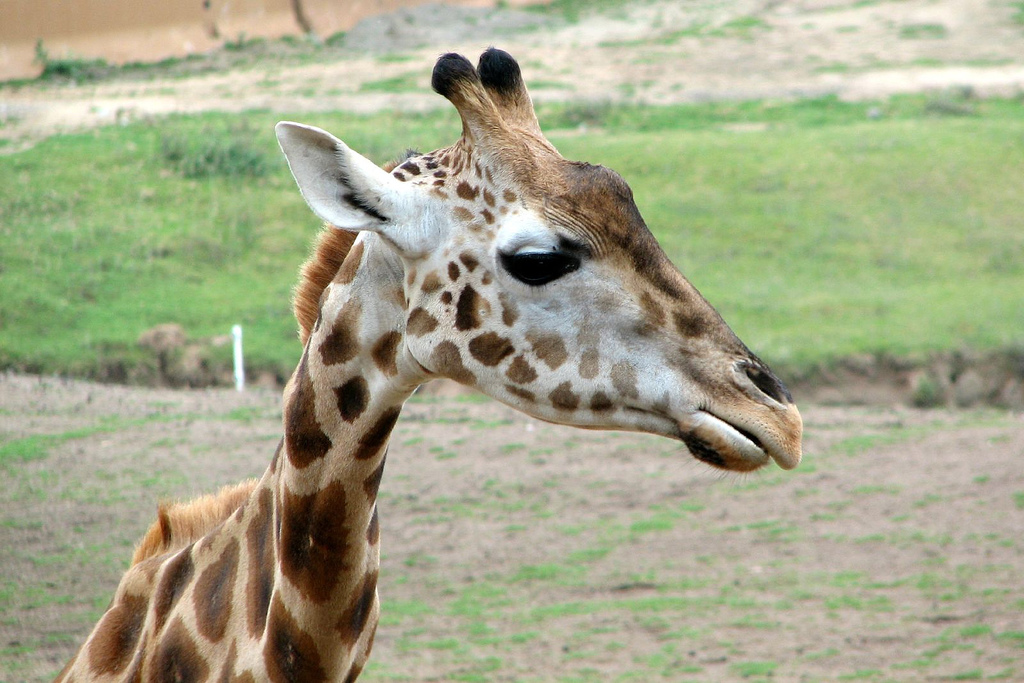giraffe: (138, 46, 802, 679)
